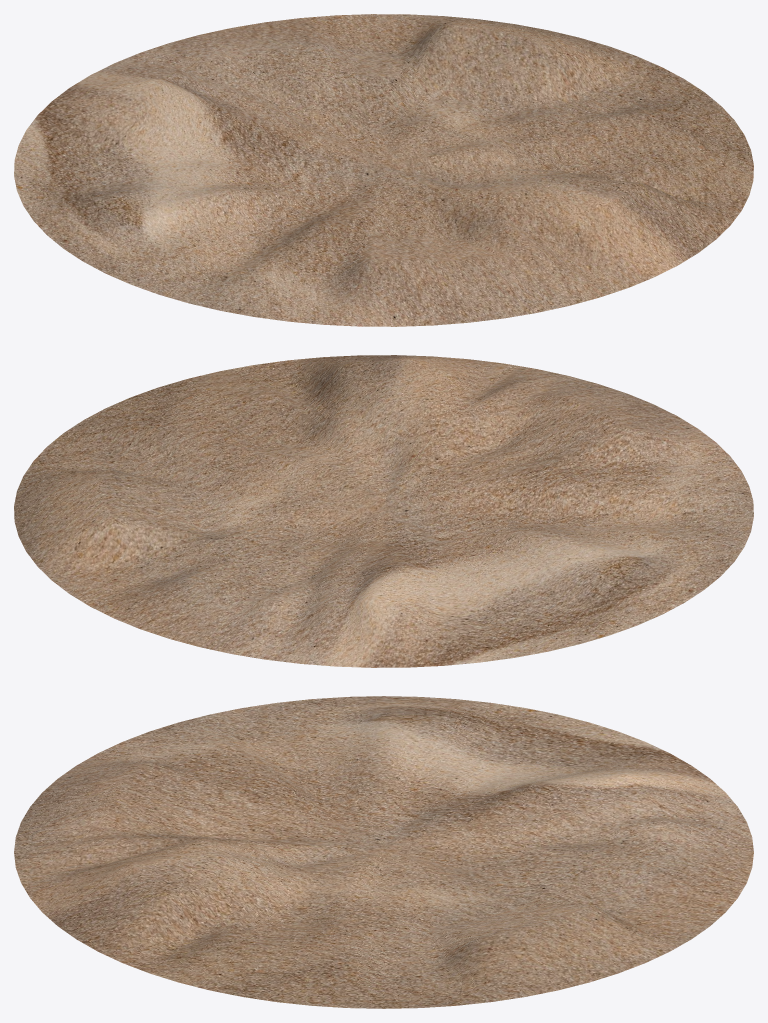
File: dirt_floor.obj
3 renders of one model, top to bottom at view 1: azimuth 30°, elevation 25°; view 2: azimuth 150°, elevation 25°; view 3: azimuth 270°, elevation 25°, orthographic.
Parts seen in each view (by area): view 1: Circle; view 2: Circle; view 3: Circle.
Part boxes in pixels (x1,y1,x2,y2): Circle: (14, 14, 753, 326); Circle: (14, 355, 753, 667); Circle: (14, 696, 753, 1008).
Bounding box in the file's own units: 14.9 × 0.7878 × 14.9.
